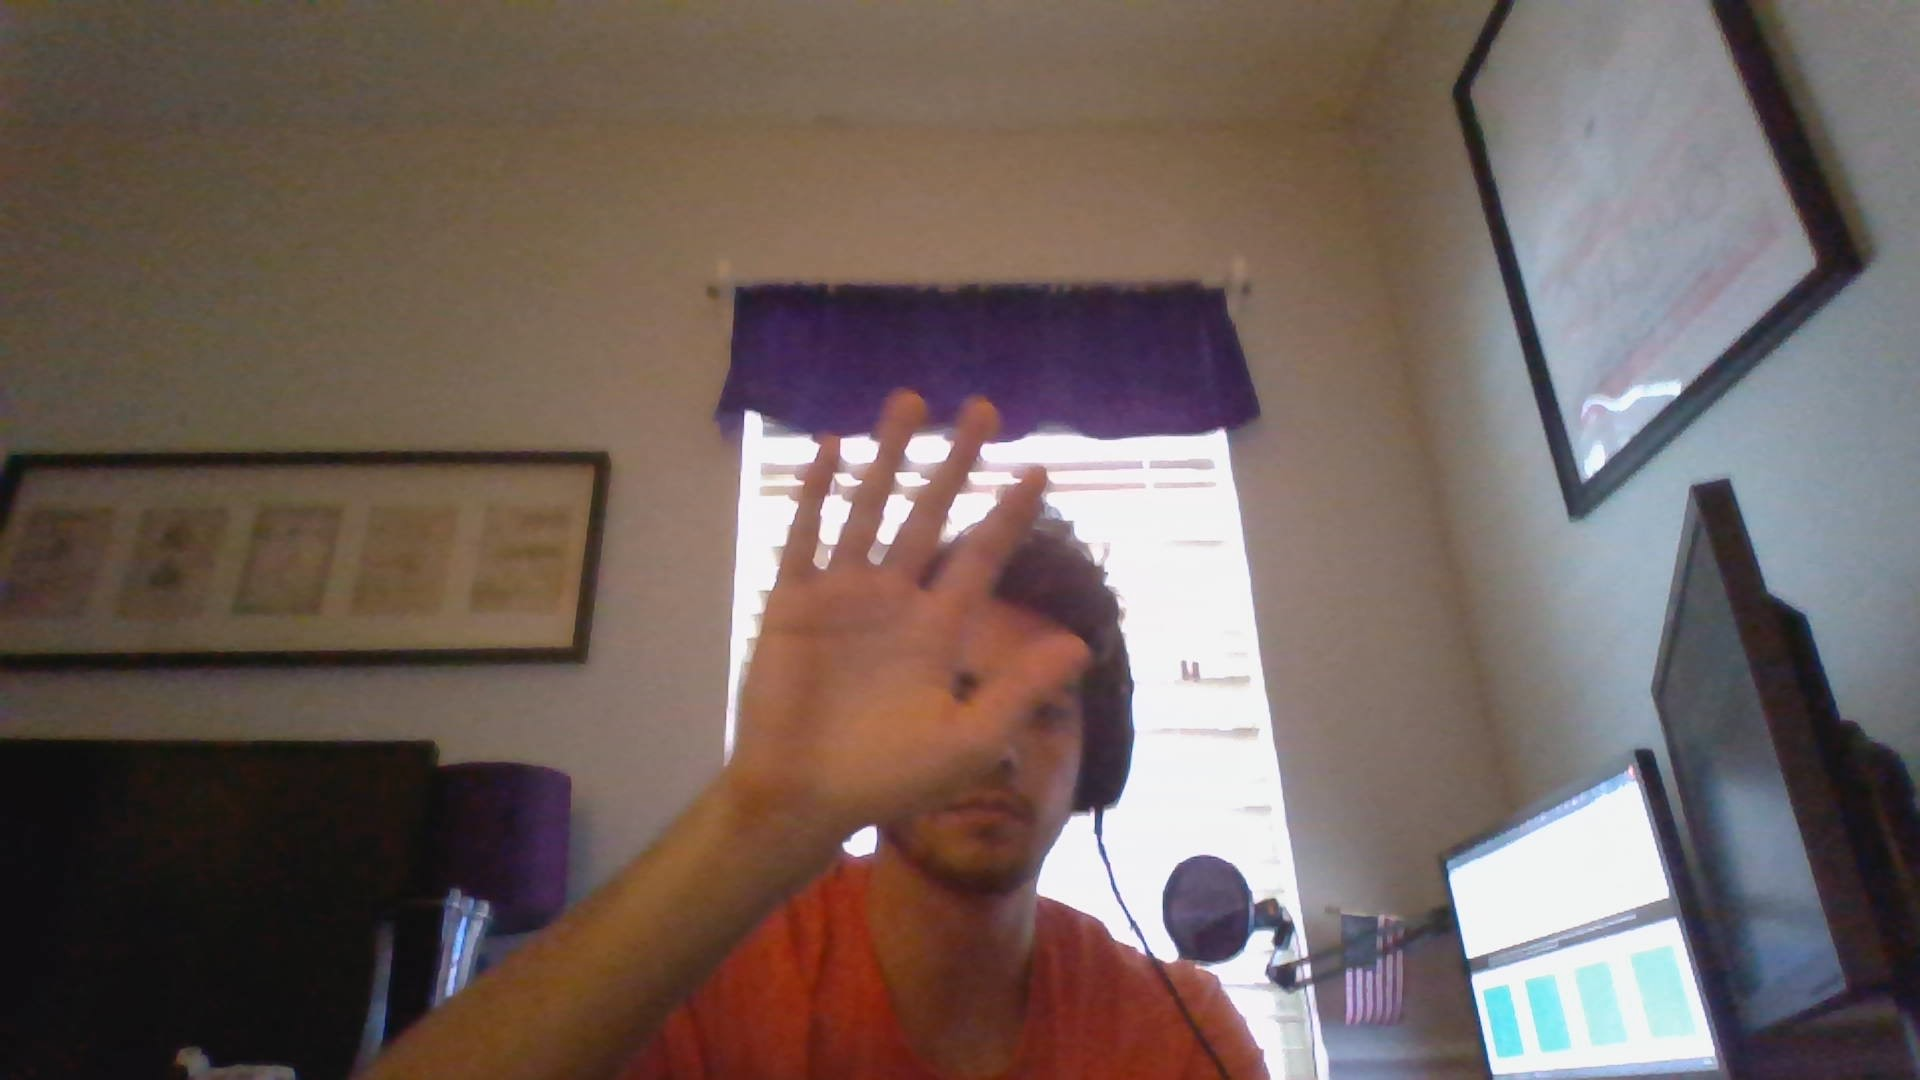Right Palm Up: (729, 385, 1102, 845)
